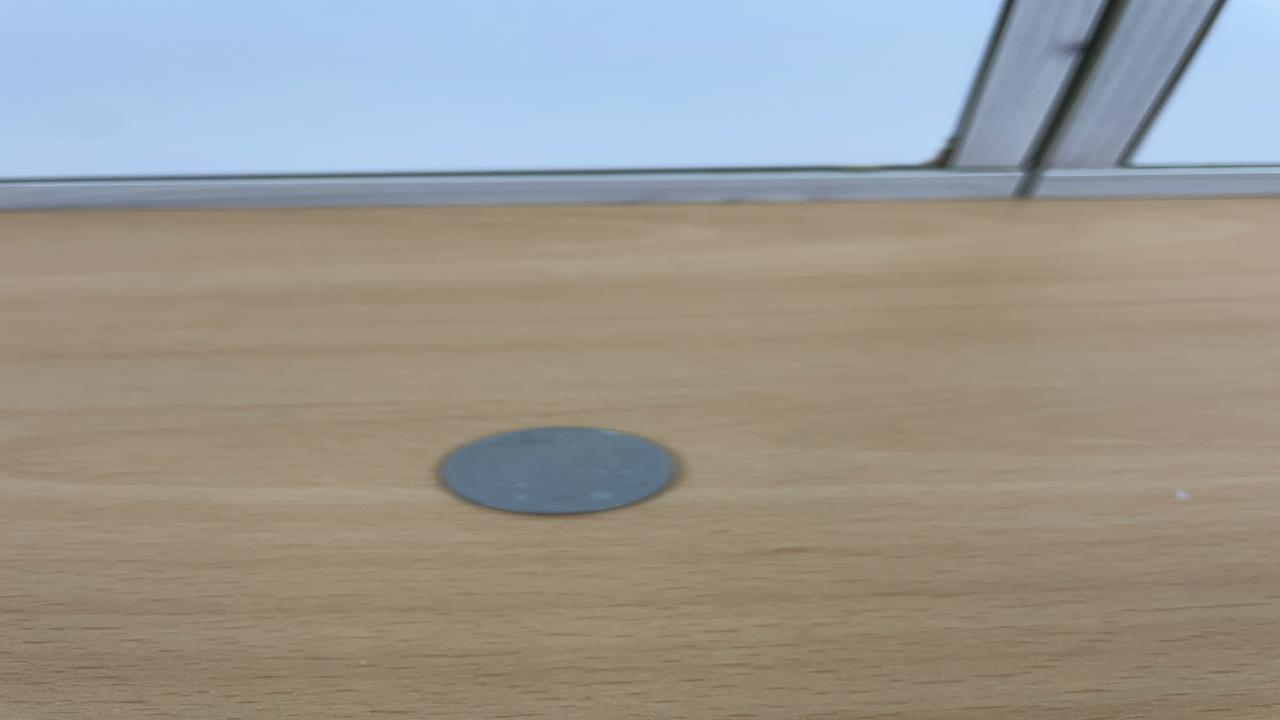coin: (436, 424, 685, 516)
